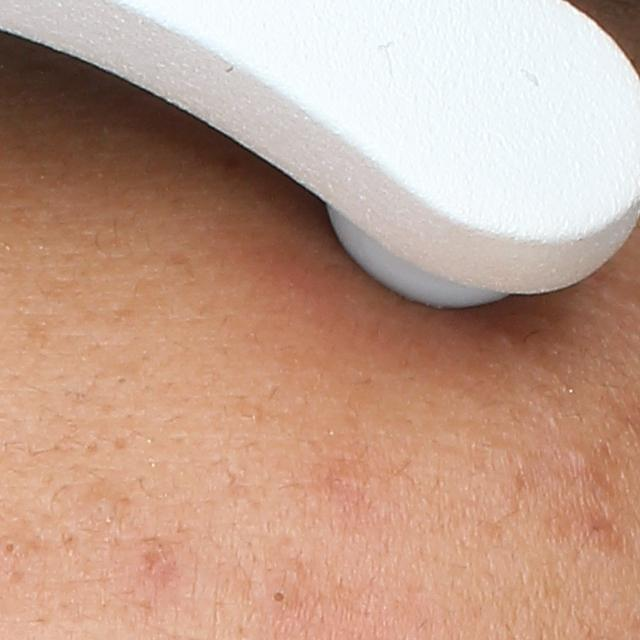comedo: (84, 486, 128, 524), (565, 442, 600, 472), (106, 367, 134, 395), (265, 584, 293, 611)
